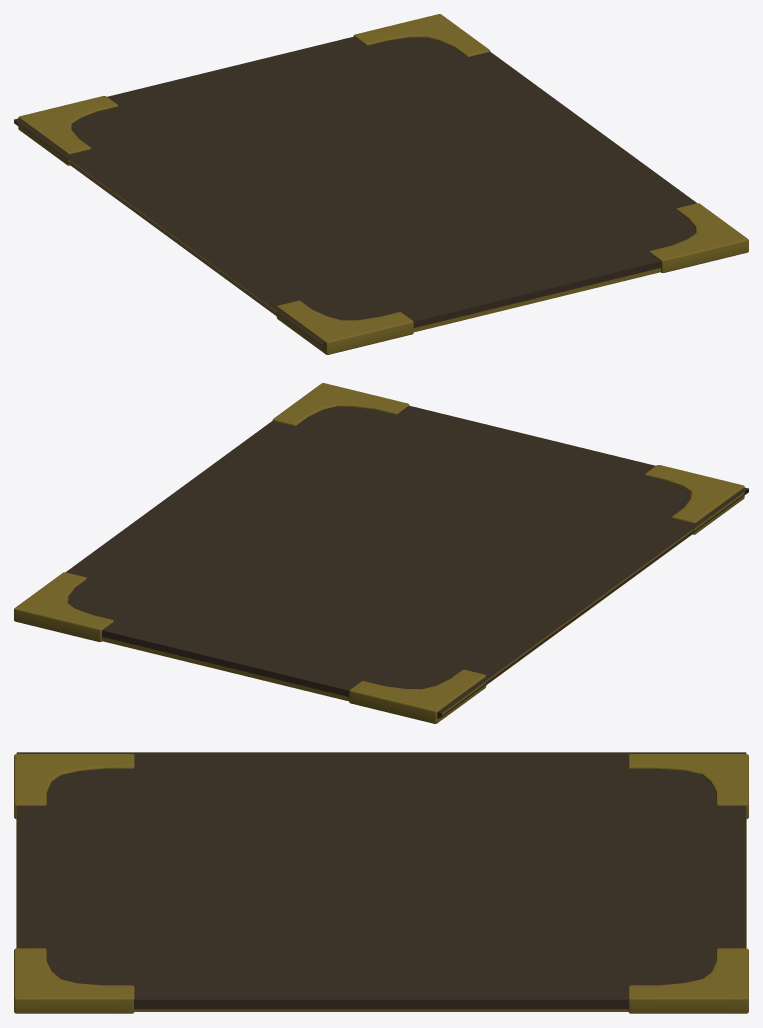
File: SpellbookFinal_BackCover.fbx
3 renders of one model, top to bottom at view 1: azimuth 30°, elevation 25°; view 2: azimuth 150°, elevation 25°; view 3: azimuth 270°, elevation 25°, orthographic. The views are drawn at different scales.
Visible parts, largest first — view 1: backcover, corner_backbottomleft, corner_backbottomright, corner_backtopleft, corner_backtopright, frame_back; view 2: backcover, corner_backtopleft, corner_backtopright, corner_backbottomleft, corner_backbottomright, frame_back; view 3: backcover, corner_backtopright, corner_backbottomright, corner_backbottomleft, corner_backtopleft, frame_back.
Boxes of the visible parts, box(x1,y1,x2,y2) form: backcover: box(14, 36, 696, 349); corner_backbottomleft: box(276, 300, 413, 354); corner_backbottomright: box(649, 203, 748, 272); corner_backtopleft: box(18, 96, 117, 165); corner_backtopright: box(353, 14, 490, 56); frame_back: box(70, 161, 660, 332); backcover: box(66, 405, 748, 718); corner_backtopleft: box(349, 669, 486, 723); corner_backtopright: box(14, 572, 113, 641); corner_backbottomleft: box(645, 465, 744, 534); corner_backbottomright: box(272, 383, 409, 425); frame_back: box(102, 530, 692, 701); backcover: box(16, 752, 746, 1009); corner_backtopright: box(628, 948, 748, 1013); corner_backbottomright: box(14, 948, 134, 1013); corner_backbottomleft: box(14, 754, 134, 818); corner_backtopleft: box(628, 754, 748, 818); frame_back: box(16, 814, 746, 1011).
Size of the model in its own units: 27.36 by 1.07 by 34.27.
